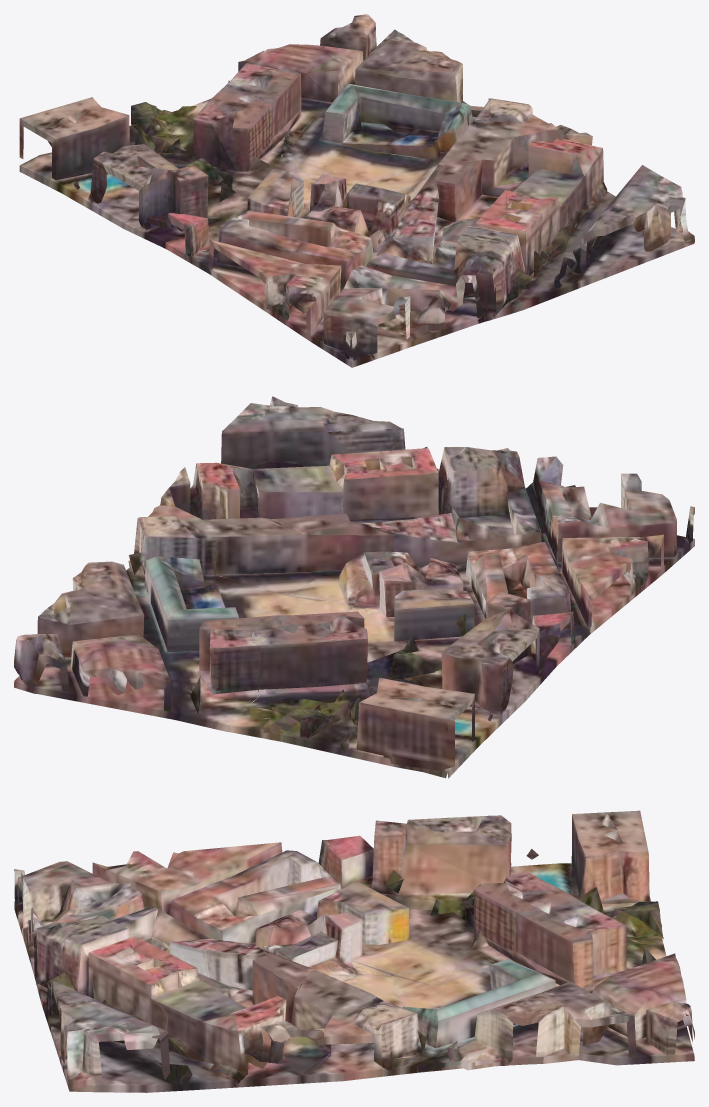
3 renders of one model, top to bottom at view 1: azimuth 30°, elevation 25°; view 2: azimuth 150°, elevation 25°; view 3: azimuth 270°, elevation 25°, orthographic. The views are drawn at different scales.
Parts seen in each view (by area): view 1: Mesh_0; view 2: Mesh_0; view 3: Mesh_0.
Boxes of the visible parts, x1=… form: Mesh_0: x1=19, y1=14, x2=694, y2=367; Mesh_0: x1=14, y1=396, x2=694, y2=778; Mesh_0: x1=14, y1=810, x2=694, y2=1092.
Bounding box in the file's own units: 270 × 43.58 × 330.
2 materials, 2 textured.
